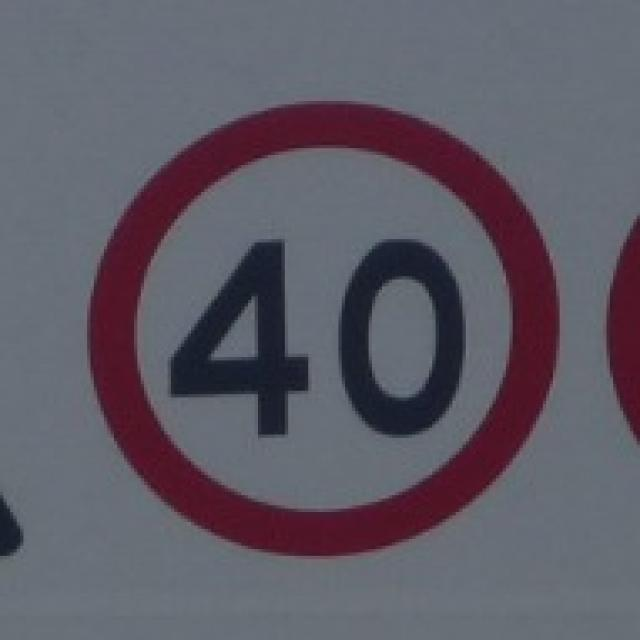Speed Limit -40-: (162, 236, 464, 444)
